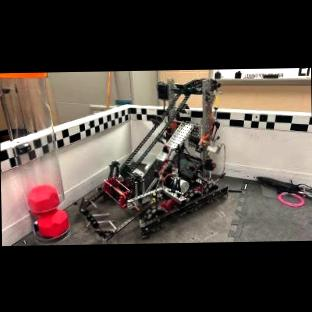Robot: (79, 77, 227, 238)
